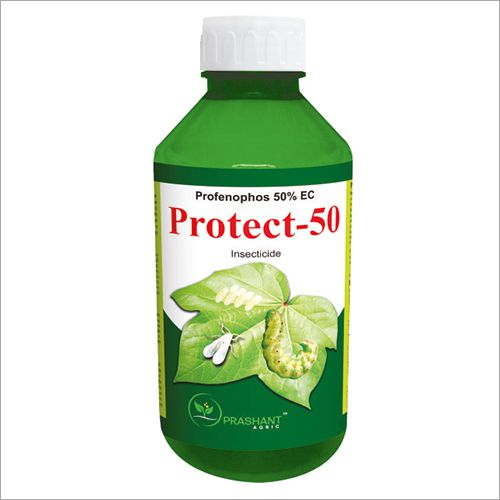Insecticide: (138, 3, 357, 488)
